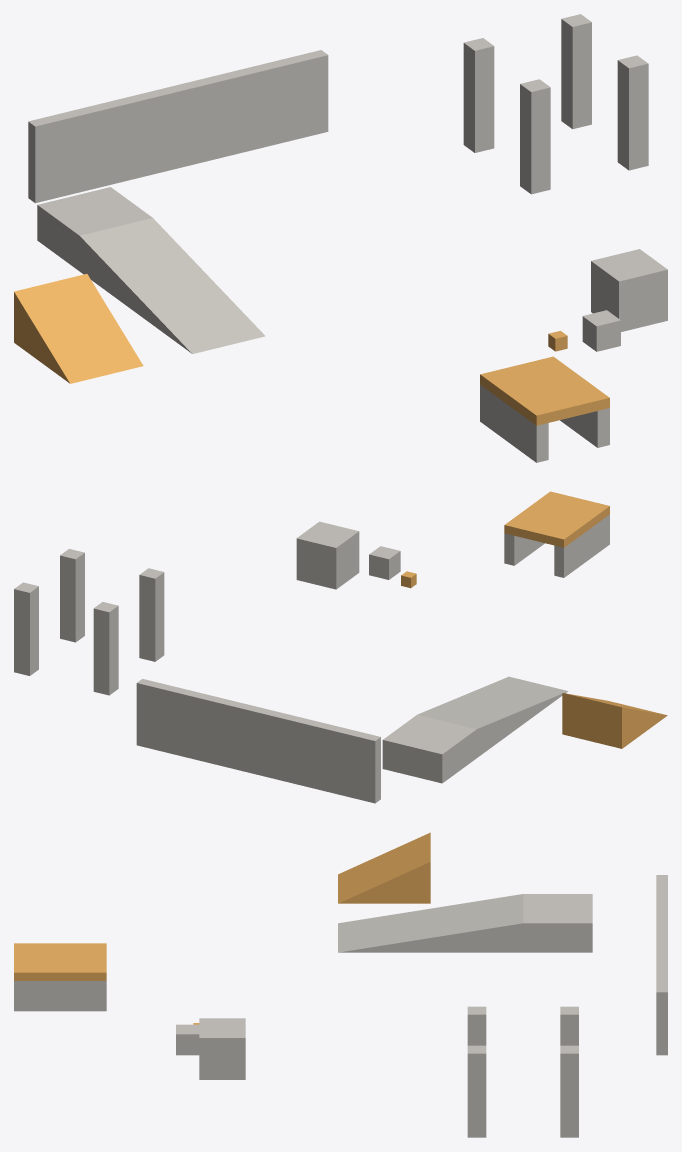
The model's file is sandbox.glb.
3 renders of one model, top to bottom at view 1: azimuth 30°, elevation 25°; view 2: azimuth 150°, elevation 25°; view 3: azimuth 270°, elevation 25°, orthographic. The views are drawn at different scales.
Parts seen in each view (by area): view 1: Wall, RampGentle, RampSteep, TunnelRoof, CrateLarge, RampGentleTop, Pillar1, Pillar2, Pillar0, Pillar3, TunnelLeft, CrateMedium (+1 smaller); view 2: Wall, RampGentle, RampGentleTop, RampSteep, TunnelRoof, CrateLarge, Pillar0, Pillar2, Pillar1, Pillar3, TunnelLeft, CrateMedium (+1 smaller); view 3: RampGentle, RampSteep, RampGentleTop, TunnelRoof, CrateLarge, TunnelRight, Wall, Pillar1, Pillar3, Pillar0, CrateMedium, Pillar2.
Part boxes in pixels (bbox=[...]): Wall: bbox=[28, 50, 328, 203]; RampGentle: bbox=[79, 218, 265, 353]; RampSteep: bbox=[14, 274, 143, 383]; TunnelRoof: bbox=[480, 356, 609, 425]; CrateLarge: bbox=[591, 249, 667, 331]; RampGentleTop: bbox=[37, 187, 152, 271]; Pillar1: bbox=[617, 55, 648, 170]; Pillar2: bbox=[463, 38, 494, 152]; Pillar0: bbox=[520, 79, 550, 194]; Pillar3: bbox=[561, 14, 591, 129]; TunnelLeft: bbox=[480, 385, 548, 462]; CrateMedium: bbox=[582, 310, 620, 351]; Wall: bbox=[136, 679, 380, 803]; RampGentle: bbox=[417, 676, 568, 757]; RampGentleTop: bbox=[382, 714, 476, 783]; RampSteep: bbox=[562, 693, 667, 748]; TunnelRoof: bbox=[504, 491, 609, 547]; CrateLarge: bbox=[296, 521, 359, 589]; Pillar0: bbox=[139, 568, 164, 661]; Pillar2: bbox=[93, 602, 118, 695]; Pillar1: bbox=[60, 549, 84, 642]; Pillar3: bbox=[14, 582, 38, 675]; TunnelLeft: bbox=[554, 514, 609, 577]; CrateMedium: bbox=[369, 546, 400, 579]; RampGentle: bbox=[338, 894, 523, 952]; RampSteep: bbox=[338, 832, 430, 903]; RampGentleTop: bbox=[523, 894, 592, 952]; TunnelRoof: bbox=[14, 943, 106, 980]; CrateLarge: bbox=[199, 1018, 245, 1079]; TunnelRight: bbox=[14, 981, 106, 1011]; Wall: bbox=[656, 875, 667, 1055]; Pillar1: bbox=[467, 1045, 486, 1137]; Pillar3: bbox=[560, 1045, 578, 1137]; Pillar0: bbox=[467, 1006, 486, 1045]; CrateMedium: bbox=[176, 1024, 199, 1055]; Pillar2: bbox=[560, 1006, 578, 1045].
Size of what is drawn, in the model's own units: 26.9 by 4 by 28.25.
